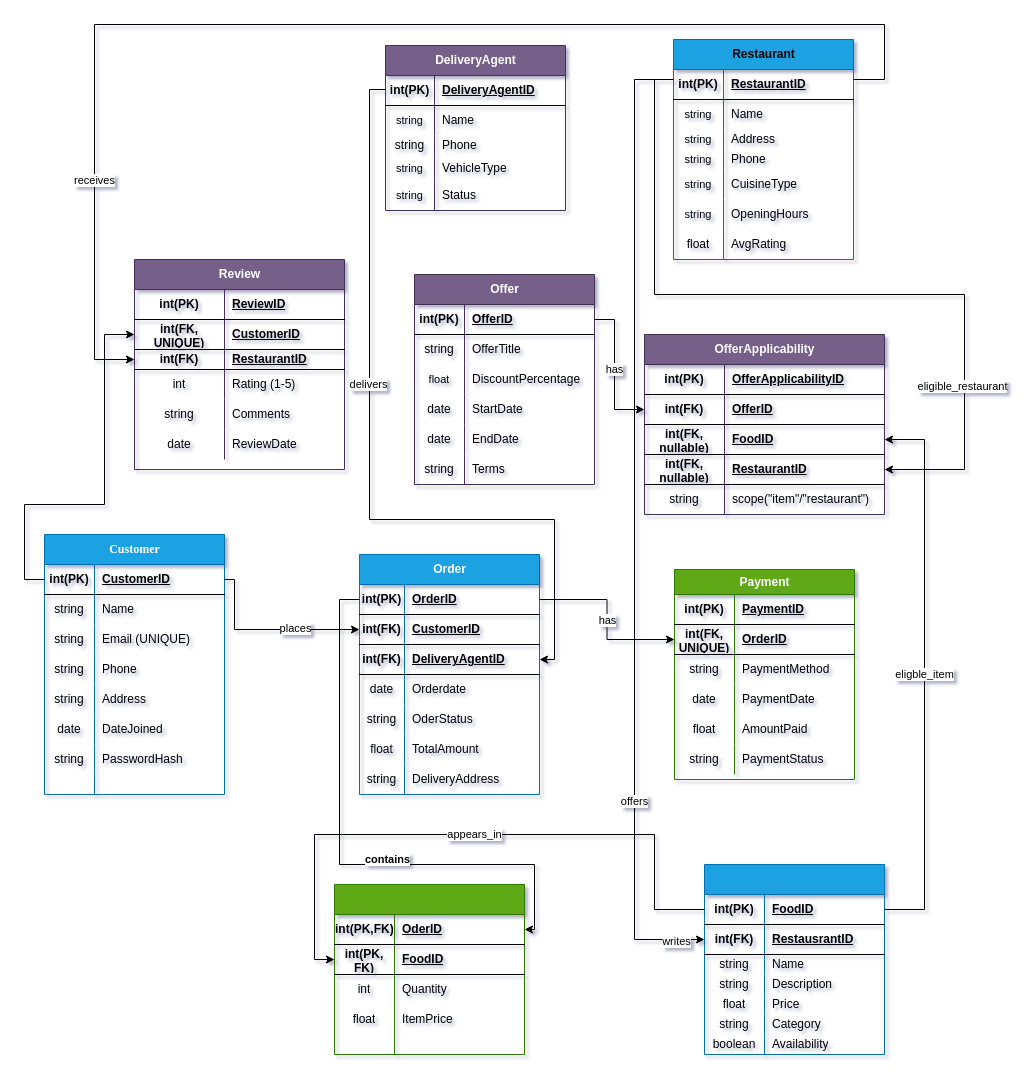
Image size: 1030x1078. Some labels were removed from this diagram. Here are the shapes that lost their labels. From the top down, the box of each, then its label:
(334, 884, 524, 1054): OrderItem
(704, 864, 884, 1054): FoodItem
